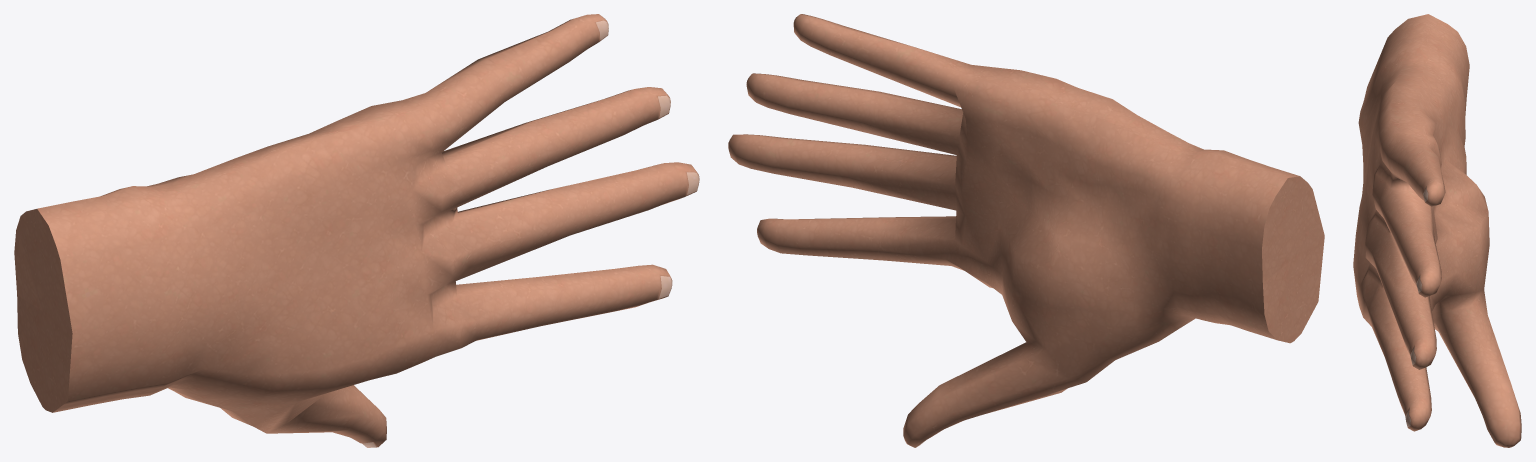
The model's file is Hand.fbx.
3 renders of one model, left to right at view 1: azimuth 30°, elevation 25°; view 2: azimuth 150°, elevation 25°; view 3: azimuth 270°, elevation 25°, orthographic. The views are drawn at different scales.
Parts seen in each view (by area): view 1: Hnad; view 2: Hnad; view 3: Hnad.
Boxes of the visible parts, x1,y1,x2,y2 form: Hnad: [14, 14, 699, 447]; Hnad: [728, 14, 1324, 447]; Hnad: [1353, 14, 1521, 447].
Size of the model in its own units: 414 by 254 by 118.
